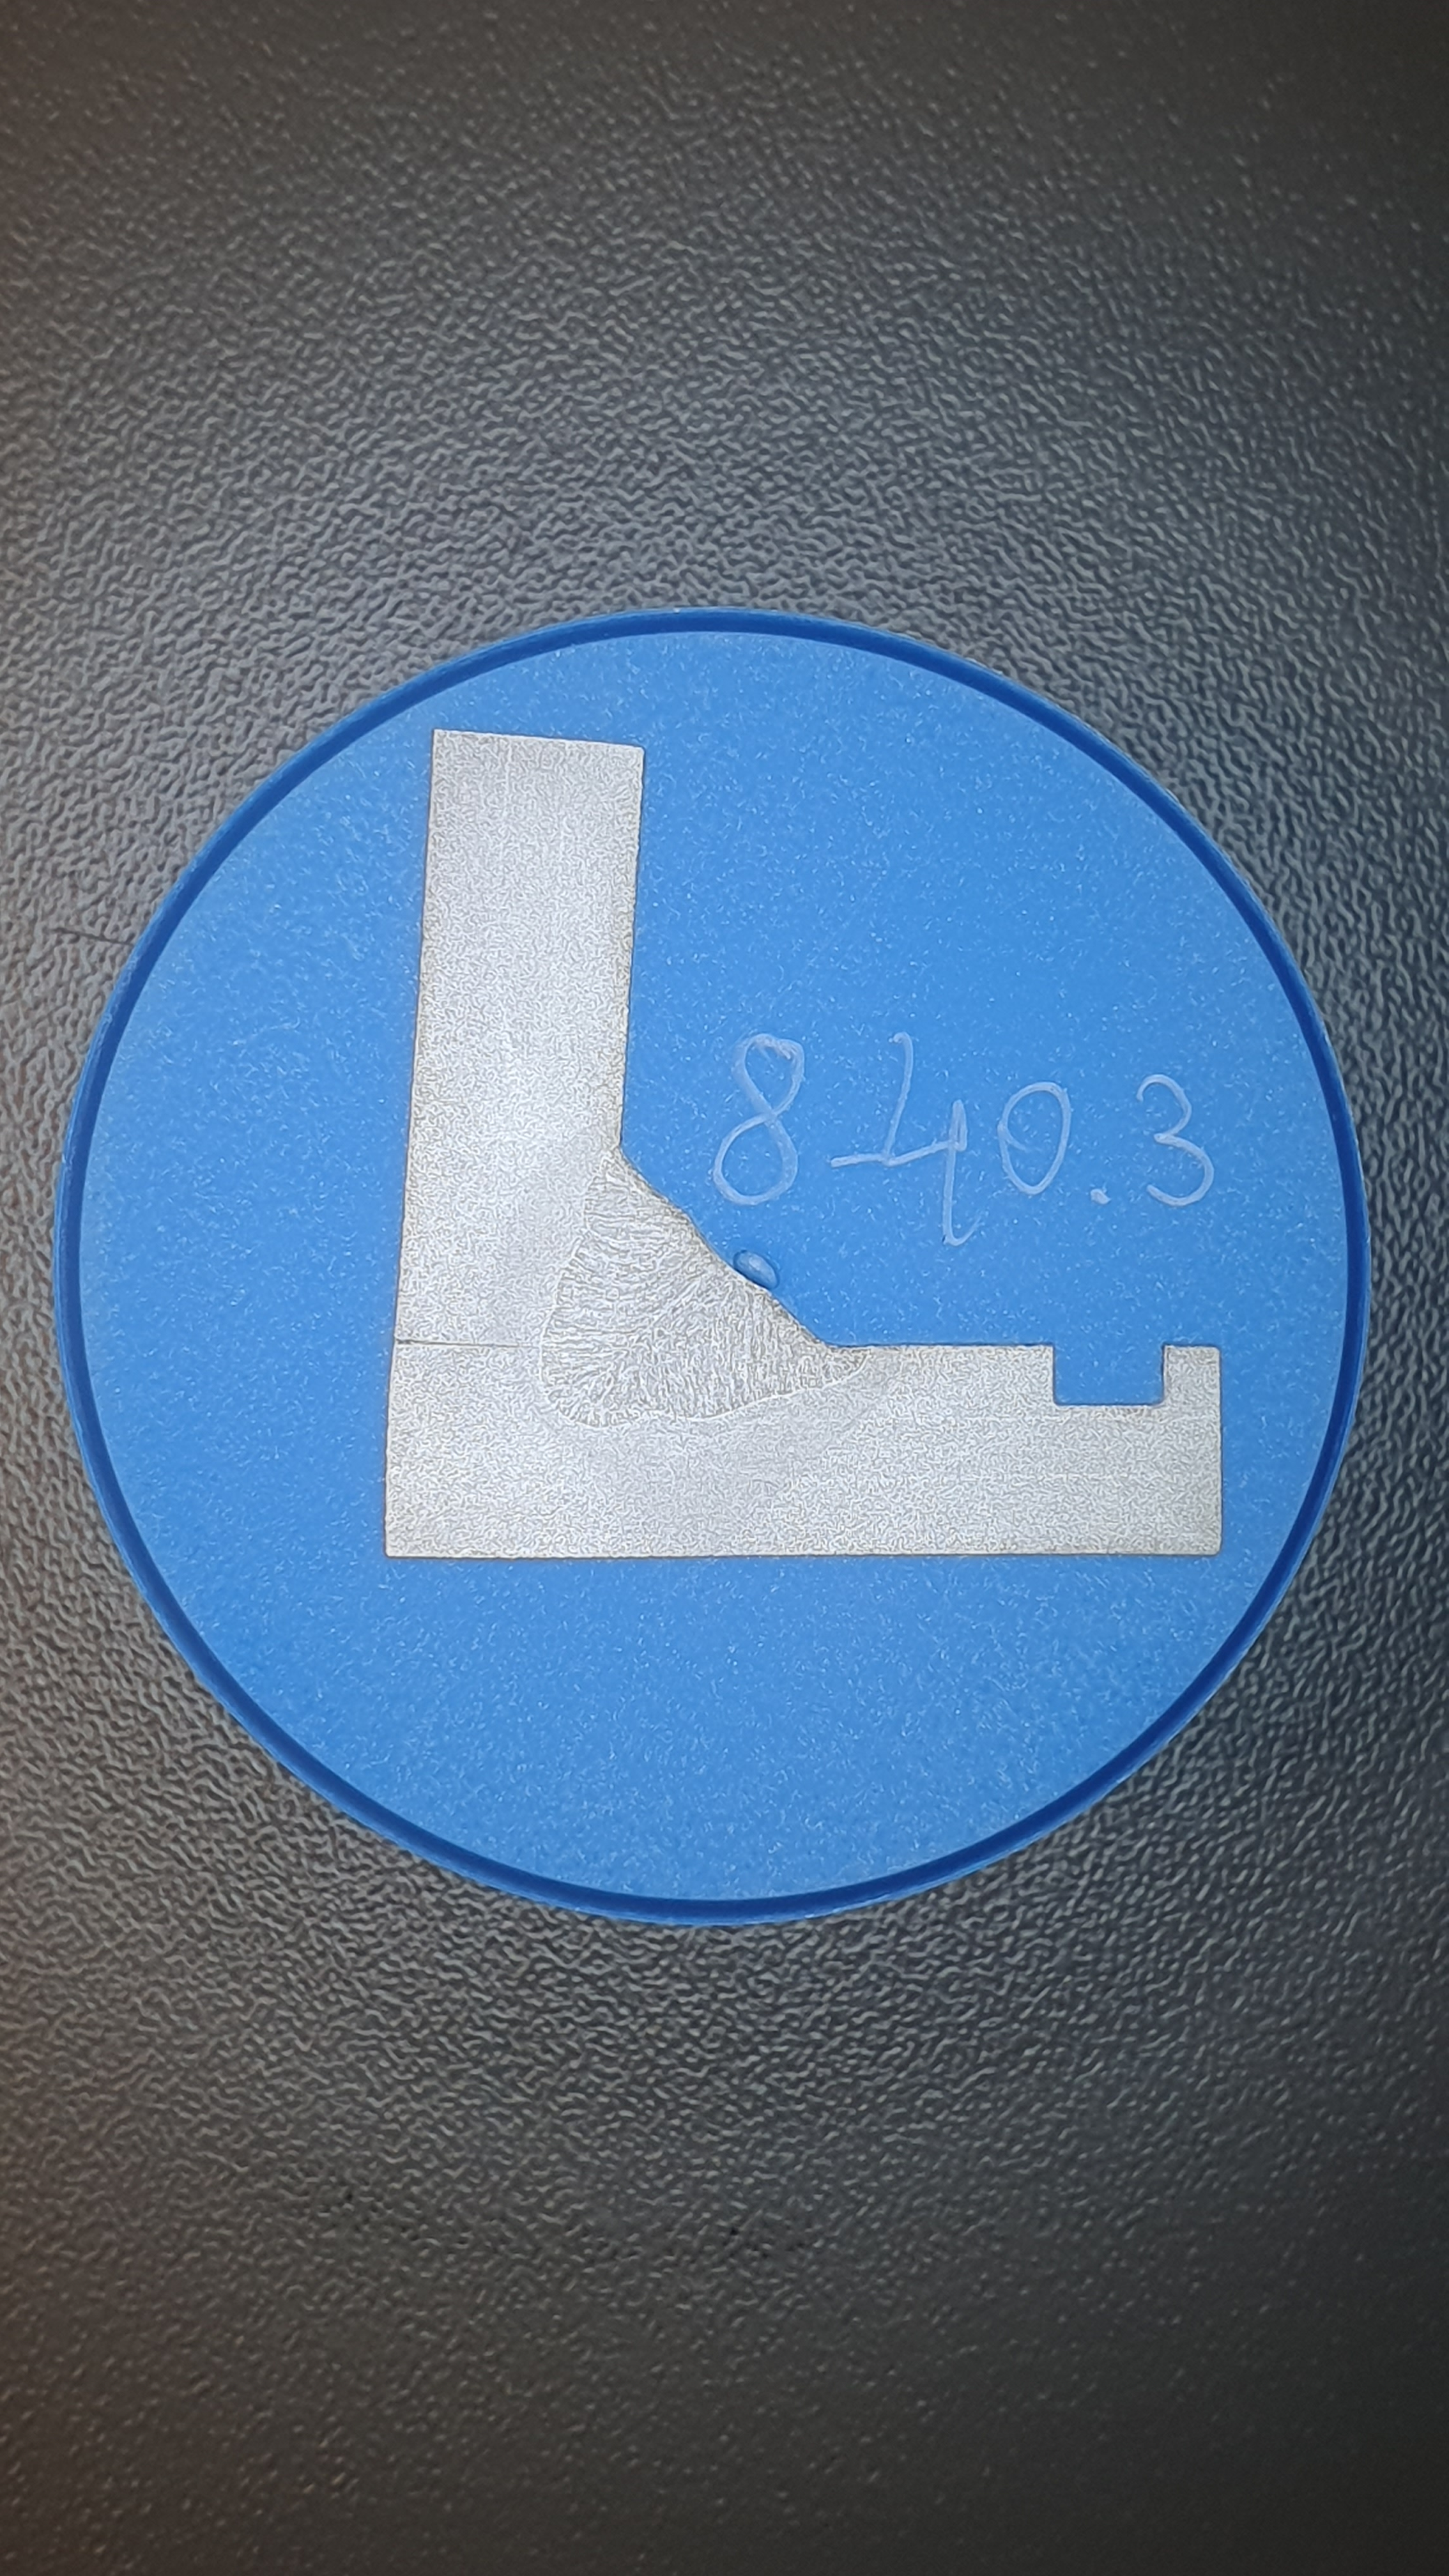Fusion: (540, 1146, 871, 1429)
Hintergrund: (79, 630, 1343, 1899)
Metall: (383, 728, 1222, 1560)
Nebenbereich: (496, 1113, 903, 1517)
